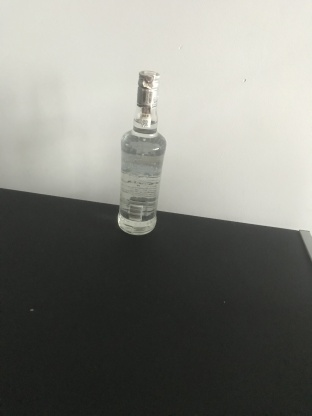nakretka: (135, 68, 161, 110)
